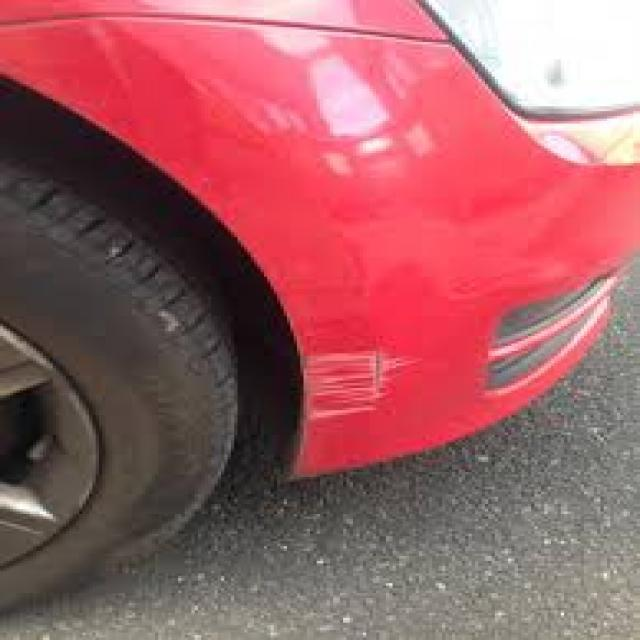dent-or-scratch: (288, 342, 428, 434)
